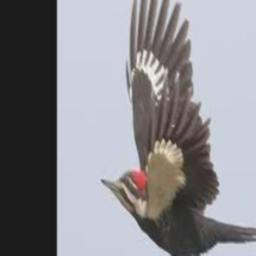Woodpecker: (100, 0, 256, 256)
